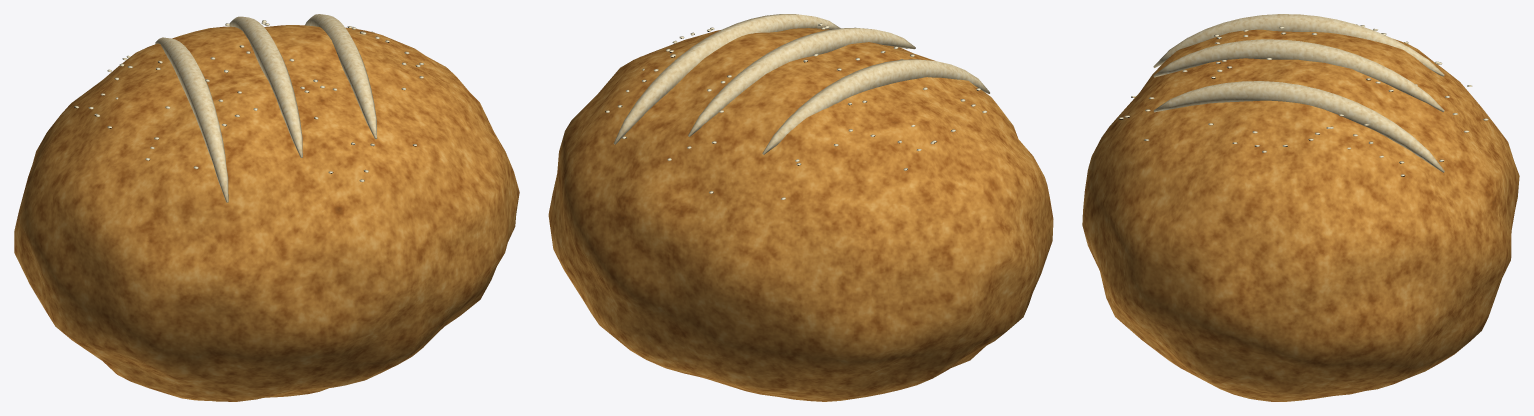
File: bread_roll.glb
3 views of the same model, side by side, from view 1: azimuth 30°, elevation 25°; view 2: azimuth 150°, elevation 25°; view 3: azimuth 270°, elevation 25° (orthographic). The views are drawn at different scales.
Parts seen in each view (by area): view 1: bread_roll; view 2: bread_roll; view 3: bread_roll.
Boxes of the visible parts, bbox=[...] form: bread_roll: bbox=[14, 14, 519, 401]; bread_roll: bbox=[548, 14, 1053, 401]; bread_roll: bbox=[1082, 14, 1519, 401].
Bounding box in the file's own units: 0.072 × 0.052 × 0.0627.
1 material, 1 textured.
